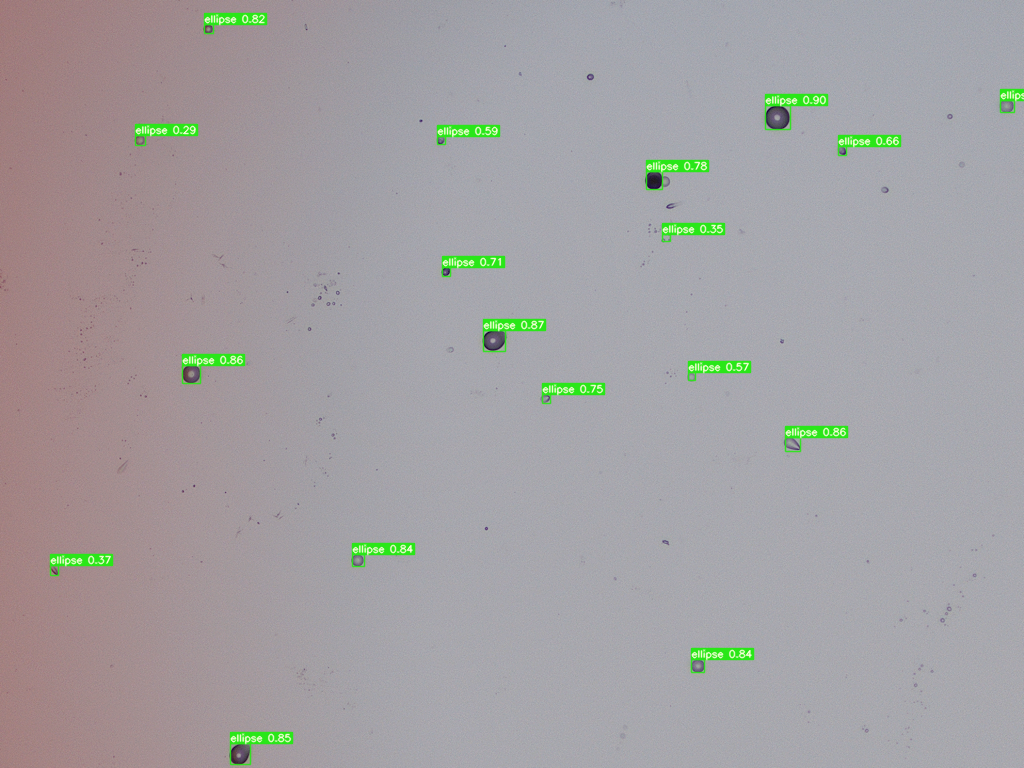circle: (765, 105, 789, 128), (182, 365, 200, 382), (999, 98, 1013, 112), (691, 659, 703, 672), (352, 554, 362, 565), (660, 176, 669, 185), (135, 135, 144, 144), (203, 24, 212, 33), (687, 373, 695, 381), (587, 74, 593, 79), (882, 187, 887, 192)
ellipse: (783, 436, 800, 449), (49, 563, 58, 574), (837, 145, 846, 155)
